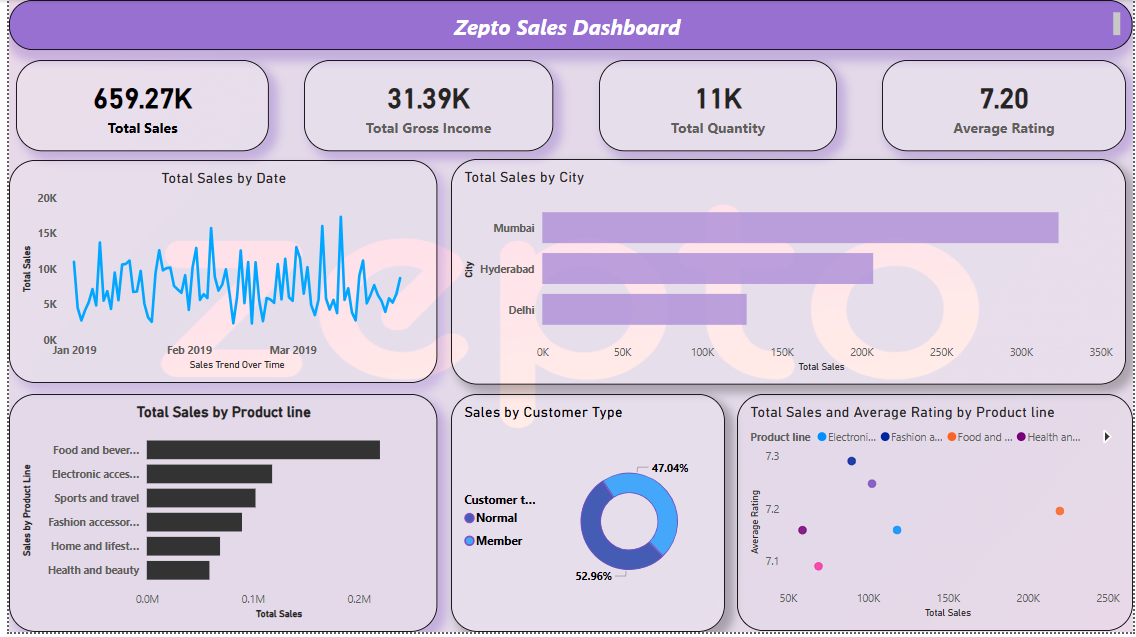

The page's visual inventory and layout, read from the dashboard file:
{"tool":"powerbi","page":{"name":"Page 1","canvas":[1280,720],"ordinal":0},"visuals":[{"type":"textbox","box":[0,0,1280,56.5],"z":0},{"type":"card","fields":{"Values":["zepto.Total Sales"]},"box":[8,68.4,288.2,103.7],"z":1000},{"type":"card","fields":{"Values":["zepto.Total Gross Income"]},"box":[336.1,68.4,283.7,103.7],"z":2000},{"type":"card","fields":{"Values":["zepto.Total Quantity"]},"box":[672.2,68.4,271.1,103.7],"z":3000},{"type":"card","fields":{"Values":["zepto.Average Rating"]},"box":[994.6,68.4,278,103.7],"z":4000},{"type":"lineChart","fields":{"Y":["zepto.Total Sales"],"Category":["zepto.Date"]},"box":[0,182.3,487.6,254.1],"z":5000},{"type":"clusteredBarChart","fields":{"Category":["zepto.Product line"],"Y":["zepto.Total Sales"]},"box":[0,448.9,487.6,271.1],"z":6000},{"type":"donutChart","title":"Sales by Customer Type","fields":{"Category":["zepto.Customer type"],"Y":["zepto.Total Sales"]},"box":[503.5,448.9,312.2,271.1],"z":7000},{"type":"barChart","fields":{"Y":["zepto.Total Sales"],"Category":["zepto.City"]},"box":[503.5,181.1,769,257.5],"z":8000},{"type":"scatterChart","fields":{"X":["zepto.Total Sales"],"Y":["zepto.Average Rating"],"Series":["zepto.Product line"]},"box":[829.4,448.9,451.1,270],"z":9000}]}

Visuals, with their boxes in screenshot pixels (x1, y1, x2, y2), scaled from the page's 1280x720 canvas onto the 1136x637 screenshot:
textbox: (0, 0, 1135, 50)
card - zepto.Total Sales: (7, 61, 263, 152)
card - zepto.Total Gross Income: (298, 61, 550, 152)
card - zepto.Total Quantity: (597, 61, 837, 152)
card - zepto.Average Rating: (883, 61, 1129, 152)
lineChart - zepto.Total Sales x zepto.Date: (0, 161, 433, 386)
clusteredBarChart - zepto.Product line x zepto.Total Sales: (0, 397, 433, 636)
"Sales by Customer Type" donutChart: (447, 397, 724, 636)
barChart - zepto.Total Sales x zepto.City: (447, 160, 1129, 388)
scatterChart - zepto.Total Sales x zepto.Average Rating: (736, 397, 1135, 636)
